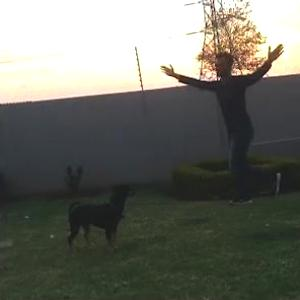takeoff: (172, 52, 284, 194)
